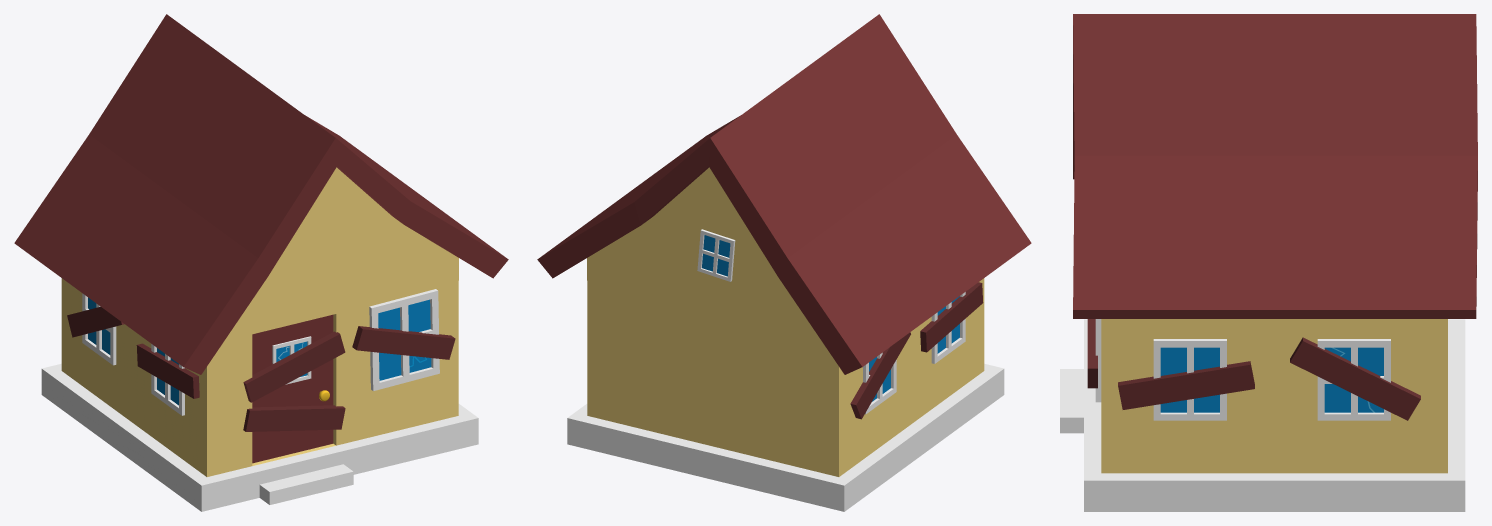
Rendered from derelict_house.glb.
The picture shows the model from 3 angles, left to right: view 1: azimuth 30°, elevation 25°; view 2: azimuth 150°, elevation 25°; view 3: azimuth 270°, elevation 25°; orthographic projection. The views are drawn at different scales.
Visible parts, largest first — view 1: Cube.481; view 2: Cube.481; view 3: Cube.481.
Boxes of the visible parts, bbox=[...] form: Cube.481: bbox=[14, 14, 508, 511]; Cube.481: bbox=[537, 14, 1031, 511]; Cube.481: bbox=[1060, 14, 1477, 511].
Bounding box in the file's own units: 1.9 × 1.93 × 1.77.
Materials: 1 (1 with a texture image).
